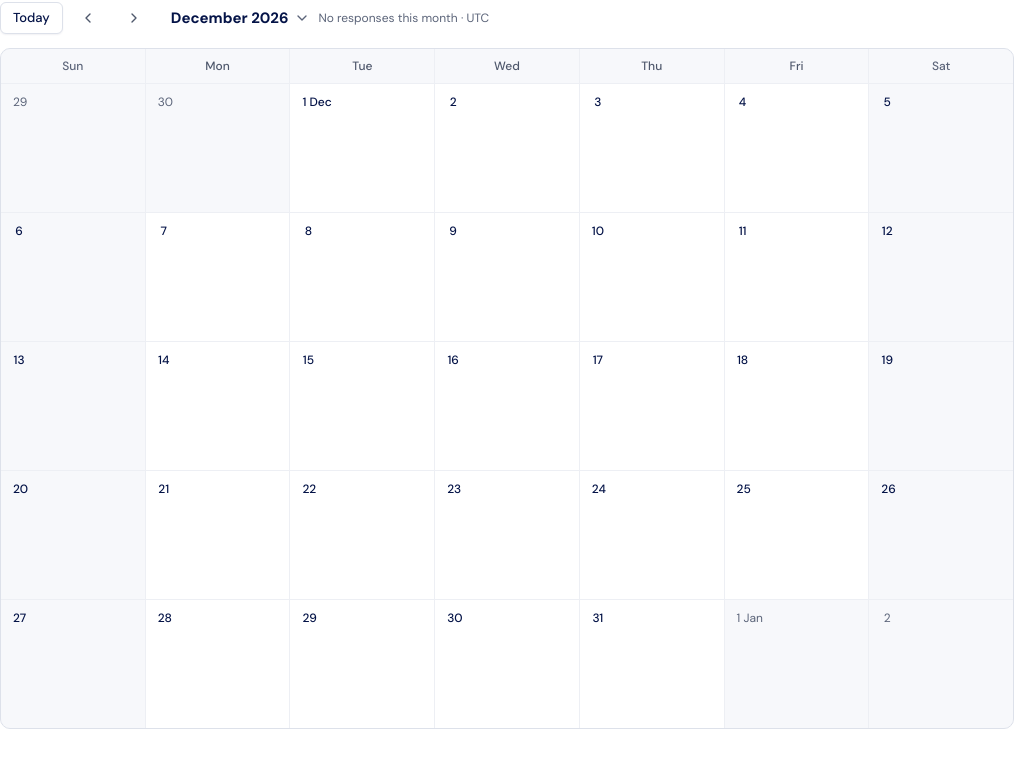
Test: moving around › rolls over the year in both directions
This screenshot has width=1024, height=768.
Click the button named "Next month": click(134, 18) [113,2,155,34]
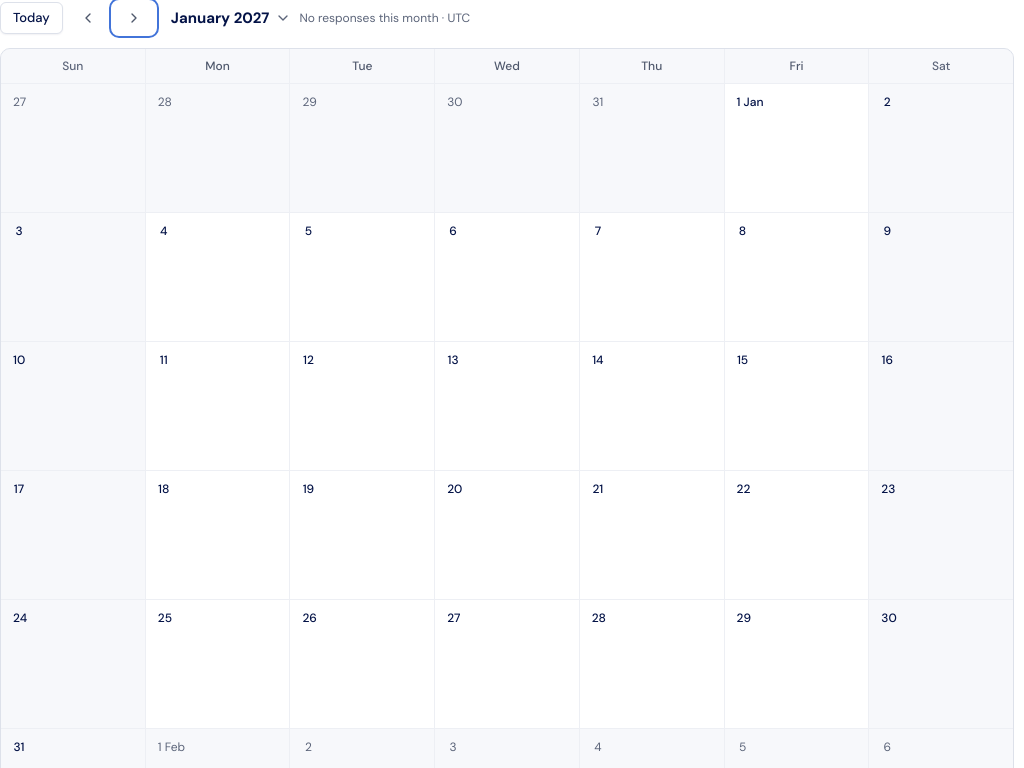
Result: the heading "January 2027" is shown at [171,5,291,31]
Click the button named "Previous month": click(88, 18) [67,2,109,34]
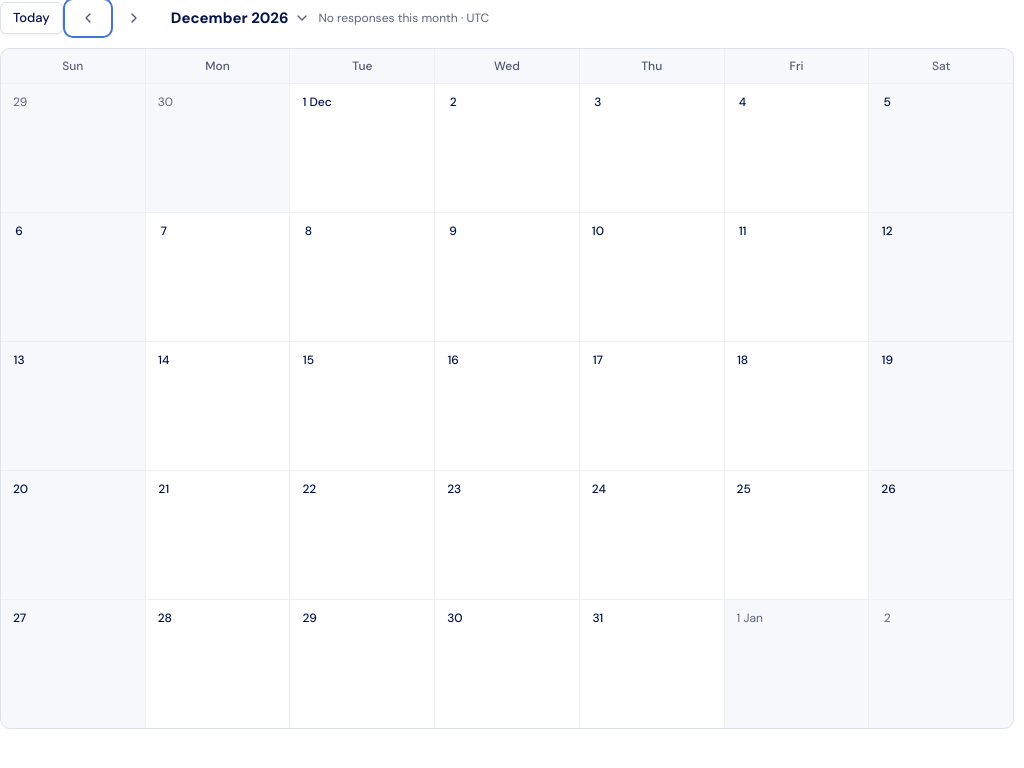
Click the button named "Previous month": click(88, 18) [67,2,109,34]
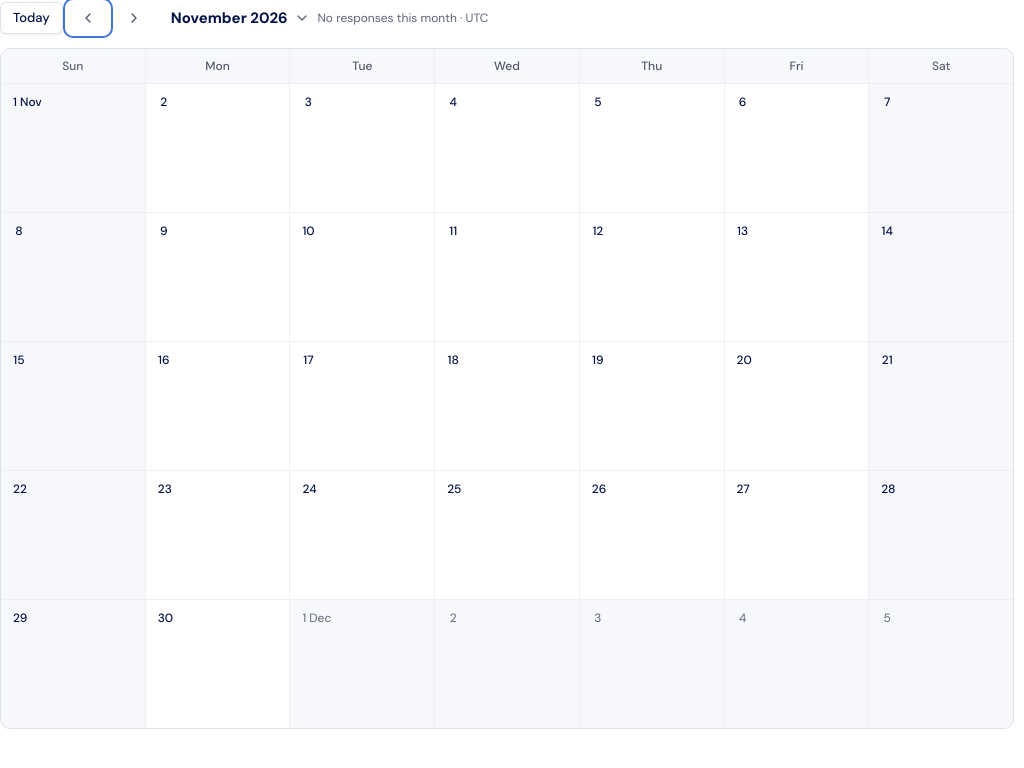
Result: the heading "November 2026" is shown at [171,5,310,31]
